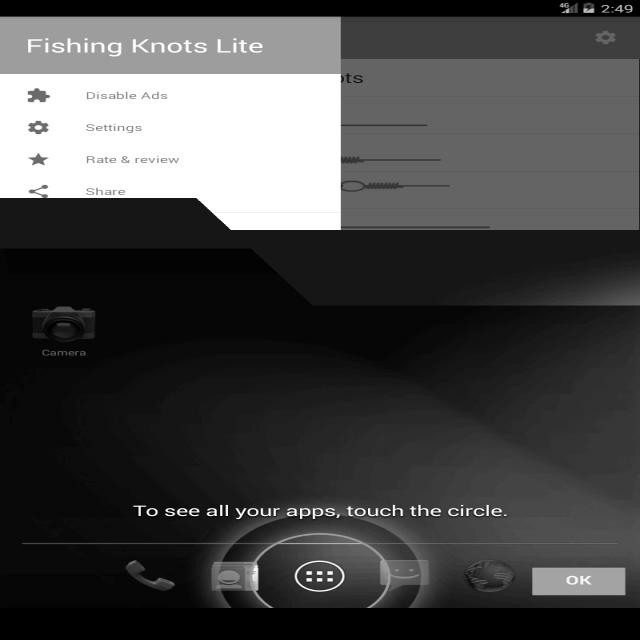ImageButton: (18, 87, 53, 107), (20, 181, 47, 196), (20, 121, 44, 137), (26, 154, 38, 160)
TextView: (135, 494, 509, 530), (28, 33, 286, 65), (74, 86, 253, 105), (87, 153, 227, 165), (73, 122, 162, 139), (80, 180, 131, 195)
